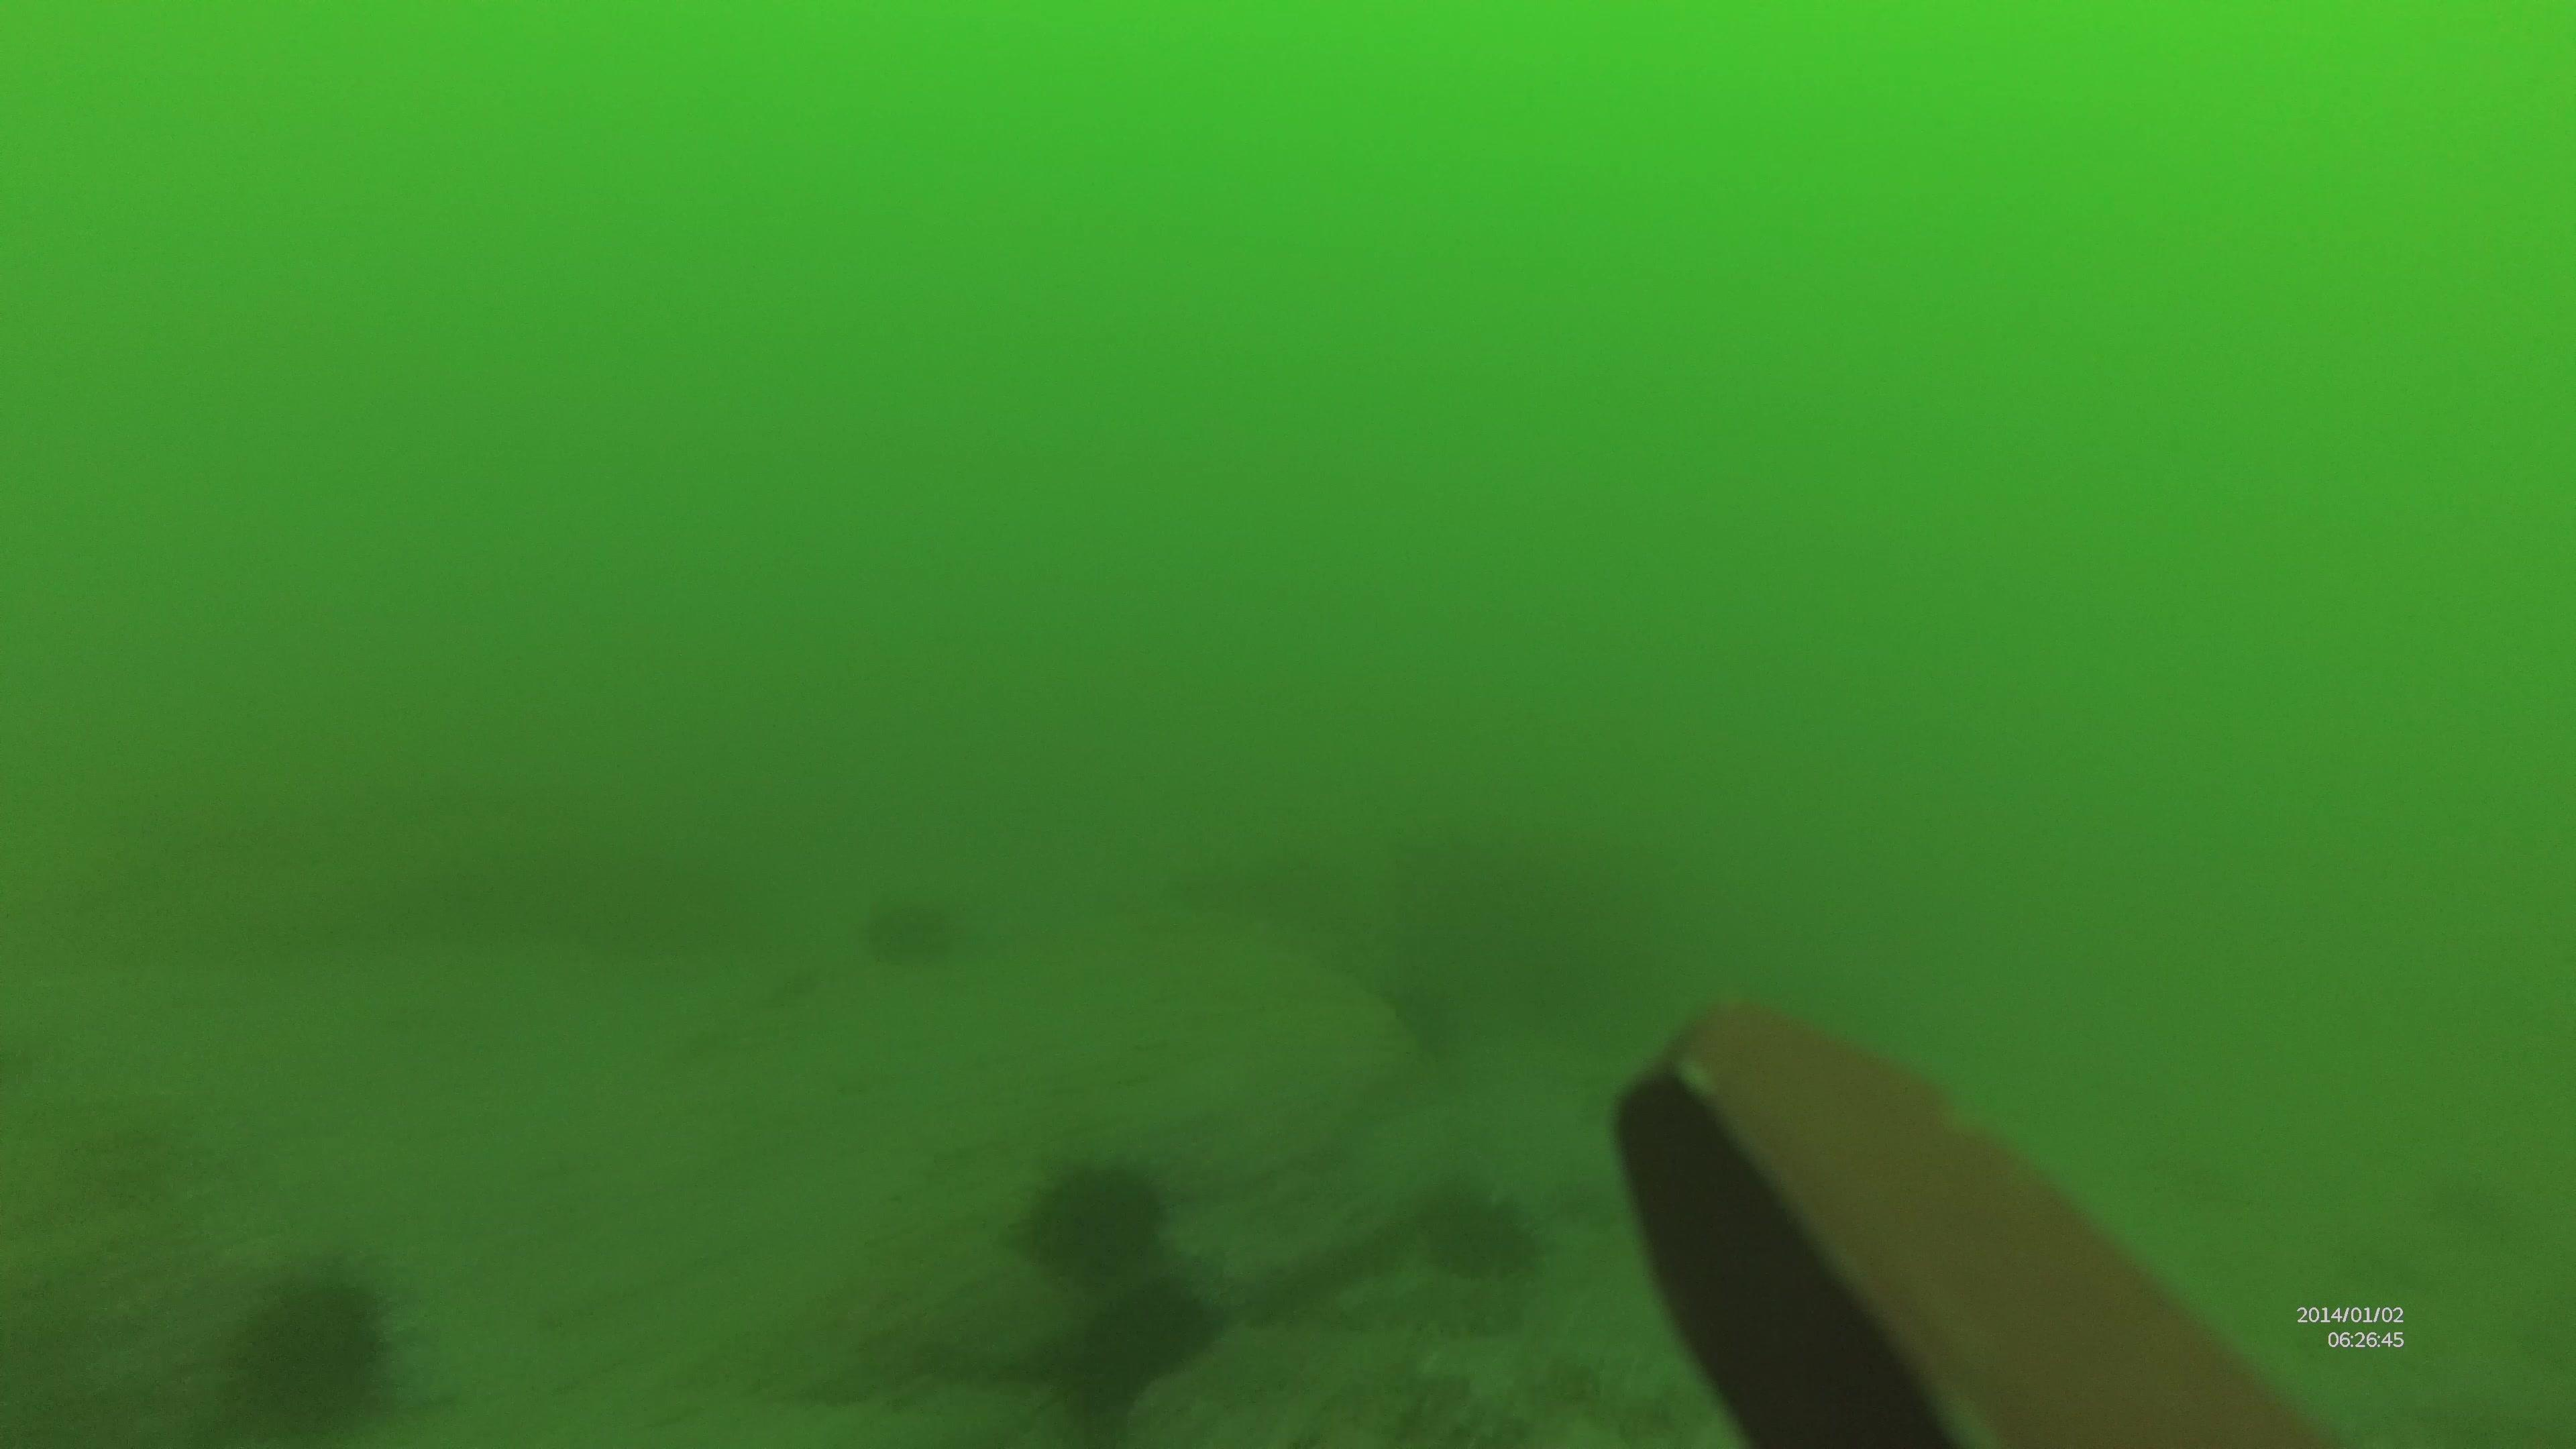echinus: (211, 1254, 405, 1449), (1072, 1276, 1215, 1433), (1016, 1154, 1182, 1281), (1421, 1194, 1548, 1299)
